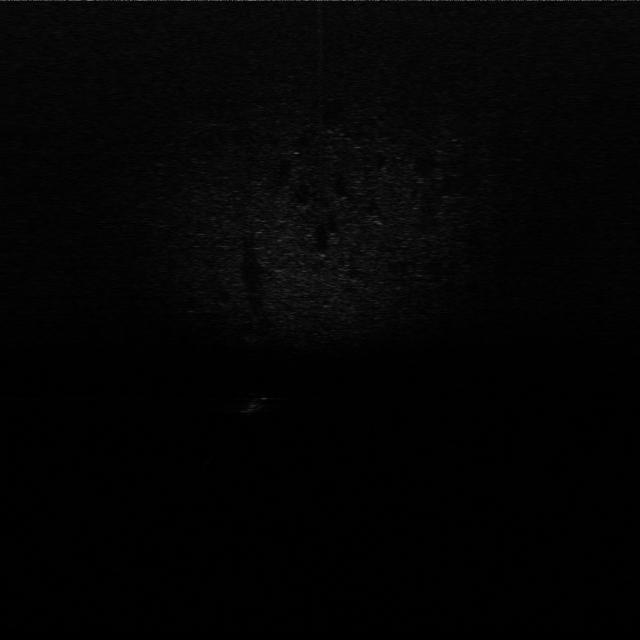human body: (234, 378, 280, 416)
